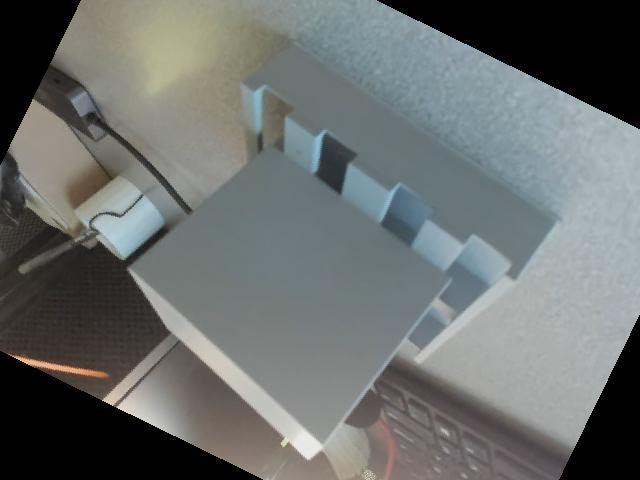grey pallet: (122, 38, 558, 473)
